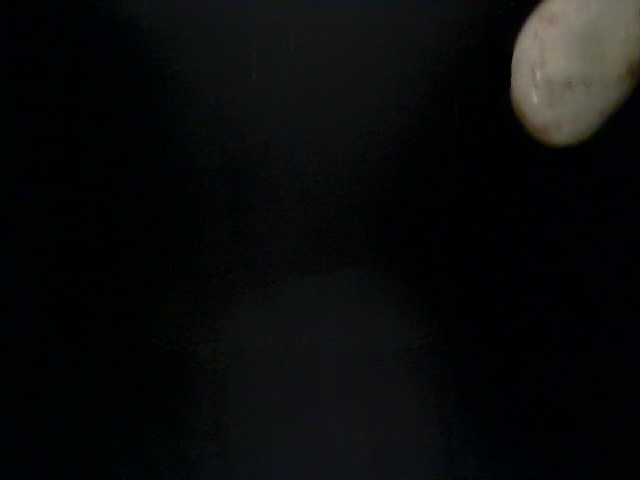QTLJ: (138, 68, 365, 322)
